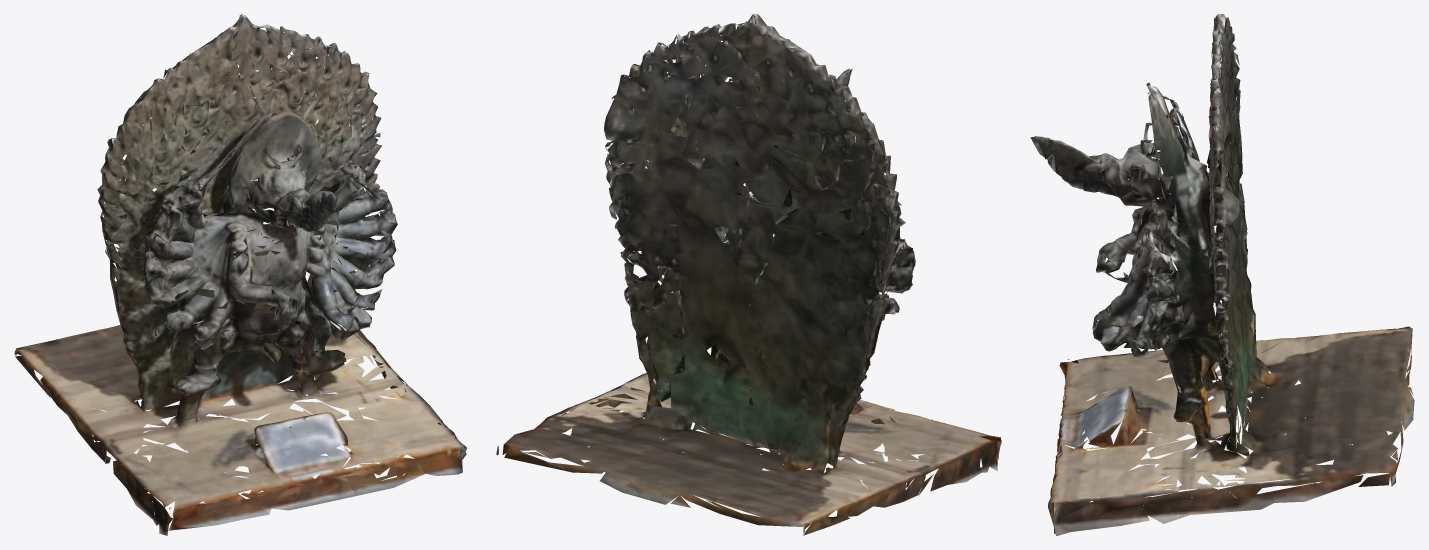
The model's file is bhairava-lo.glb.
3 views of the same model, side by side, from view 1: azimuth 30°, elevation 25°; view 2: azimuth 150°, elevation 25°; view 3: azimuth 270°, elevation 25° (orthographic). The views are drawn at different scales.
Visible parts, largest first — view 1: Object_3, Object_2, Object_4, Object_5, Object_6, Object_7, Object_8; view 2: Object_2, Object_3, Object_5, Object_4, Object_6, Object_7, Object_8; view 3: Object_2, Object_4, Object_3, Object_7, Object_5, Object_6, Object_8.
Part boxes in pixels (x1,y1,x2,y2): Object_3: (105, 19, 424, 530); Object_2: (16, 45, 431, 507); Object_4: (15, 36, 467, 475); Object_5: (97, 14, 405, 535); Object_6: (98, 15, 356, 477); Object_7: (139, 50, 466, 509); Object_8: (14, 42, 379, 447); Object_2: (504, 44, 992, 526); Object_3: (504, 22, 1001, 491); Object_5: (676, 15, 1001, 470); Object_4: (502, 34, 933, 535); Object_6: (675, 14, 915, 300); Object_7: (496, 49, 996, 455); Object_8: (621, 42, 914, 533); Object_2: (1076, 45, 1414, 498); Object_4: (1035, 91, 1413, 535); Object_3: (1053, 20, 1403, 523); Object_7: (1038, 47, 1395, 533); Object_5: (1030, 14, 1242, 430); Object_6: (1057, 14, 1236, 451); Object_8: (1129, 105, 1410, 439).
Bounding box in the file's own units: 2.98 × 3.99 × 3.08.
Materials: 1 (1 with a texture image).
